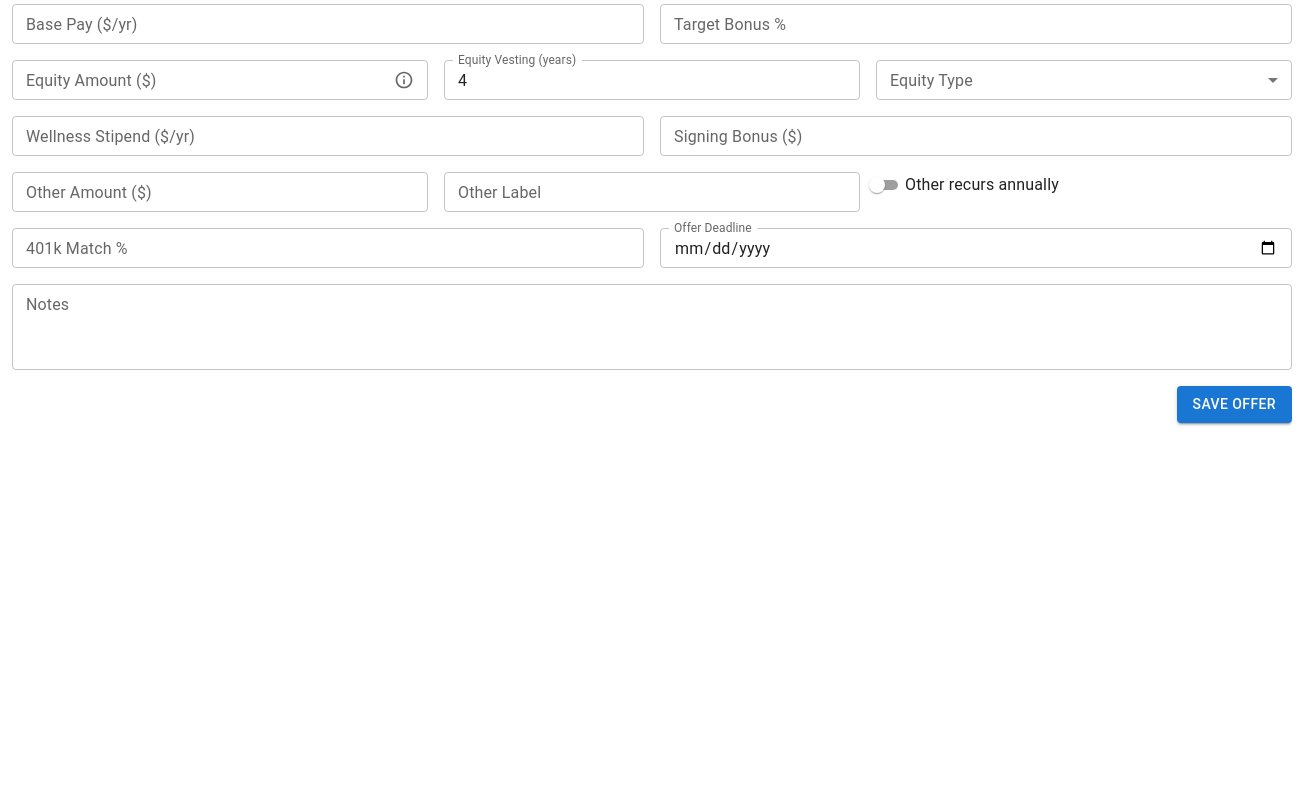
Test case: offerTab › error handling › shows an error snackbar when save fails
Click the button "Save Offer": (1234, 404) x1=1177 y1=386 x2=1292 y2=422
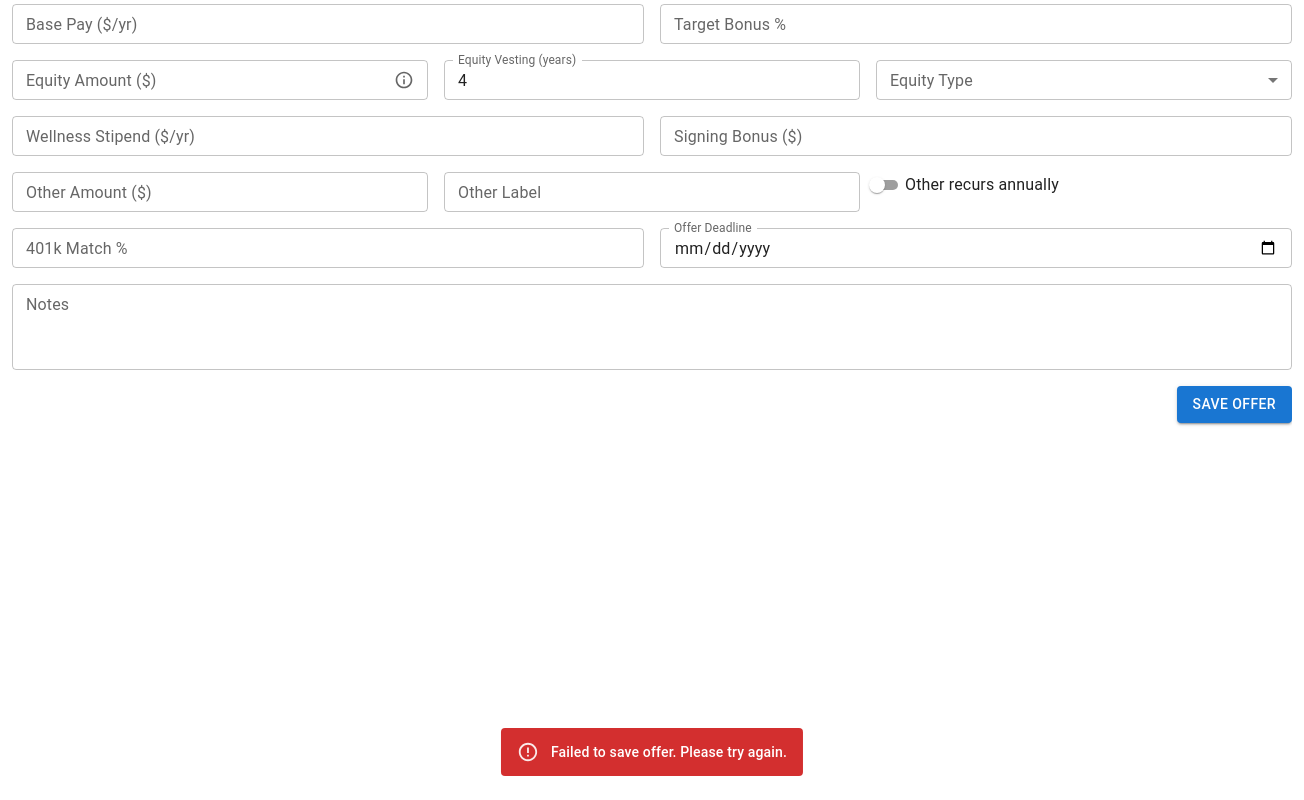
Expected: the text "Failed to save offer. Please try again." is shown, x1=551 y1=744 x2=787 y2=760
